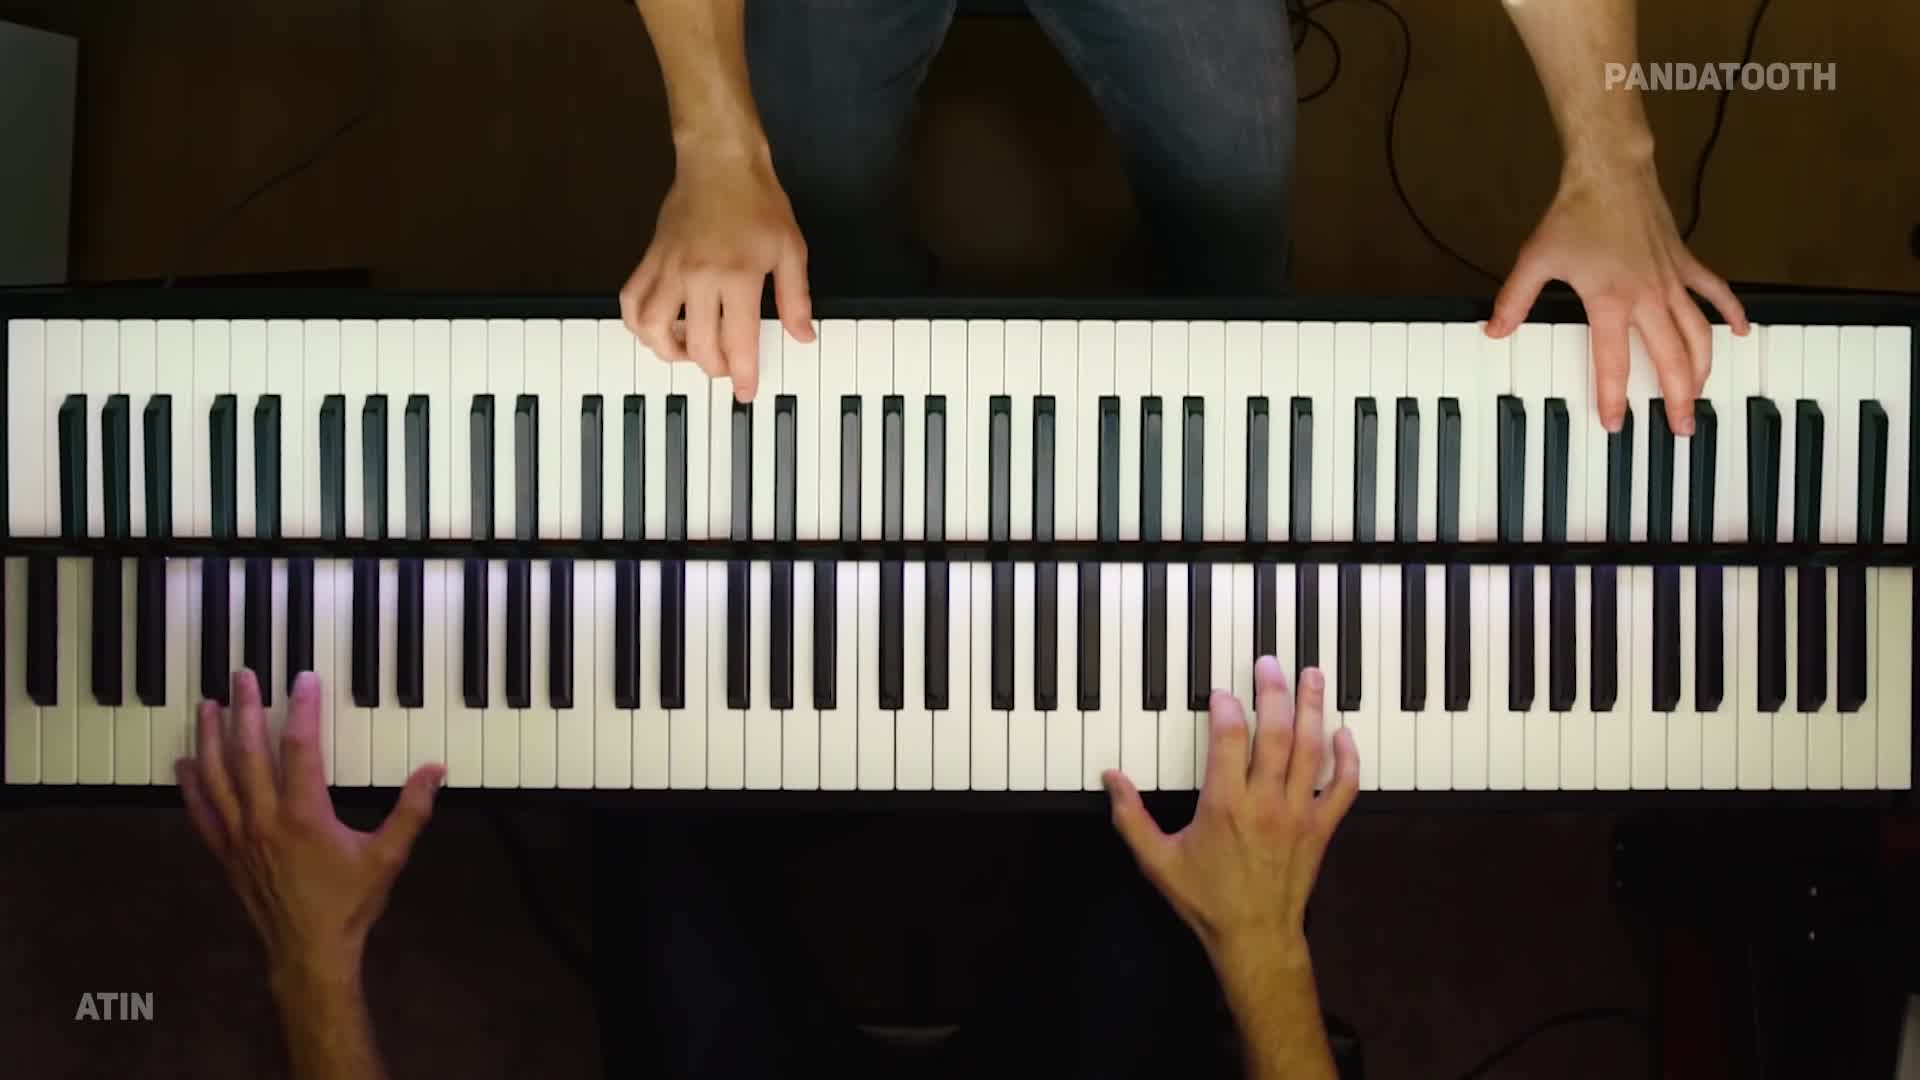left: (171, 658, 444, 967), (1481, 193, 1753, 435)
right: (1101, 653, 1360, 955), (615, 153, 818, 398)
